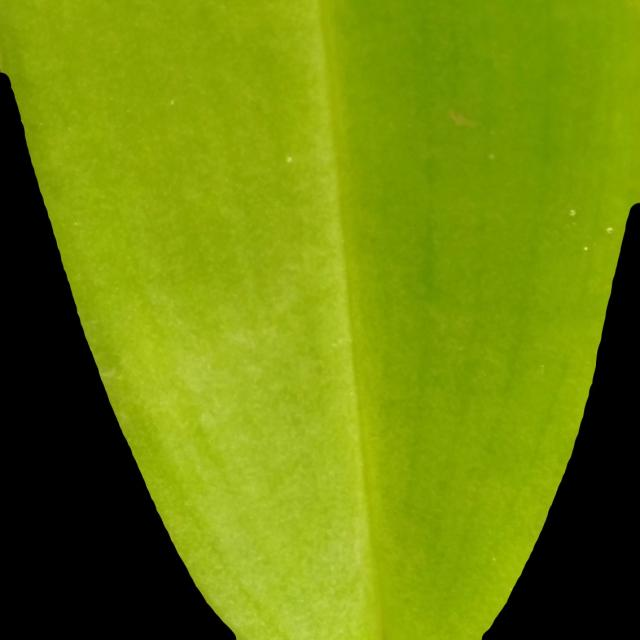mite: (562, 201, 619, 256), (564, 204, 593, 255), (578, 222, 617, 255), (280, 148, 297, 169), (563, 203, 580, 222), (577, 239, 594, 257), (485, 150, 496, 163), (604, 224, 615, 236), (284, 153, 294, 165), (567, 207, 577, 218), (581, 243, 590, 252)
spots: (2, 2, 637, 637)
